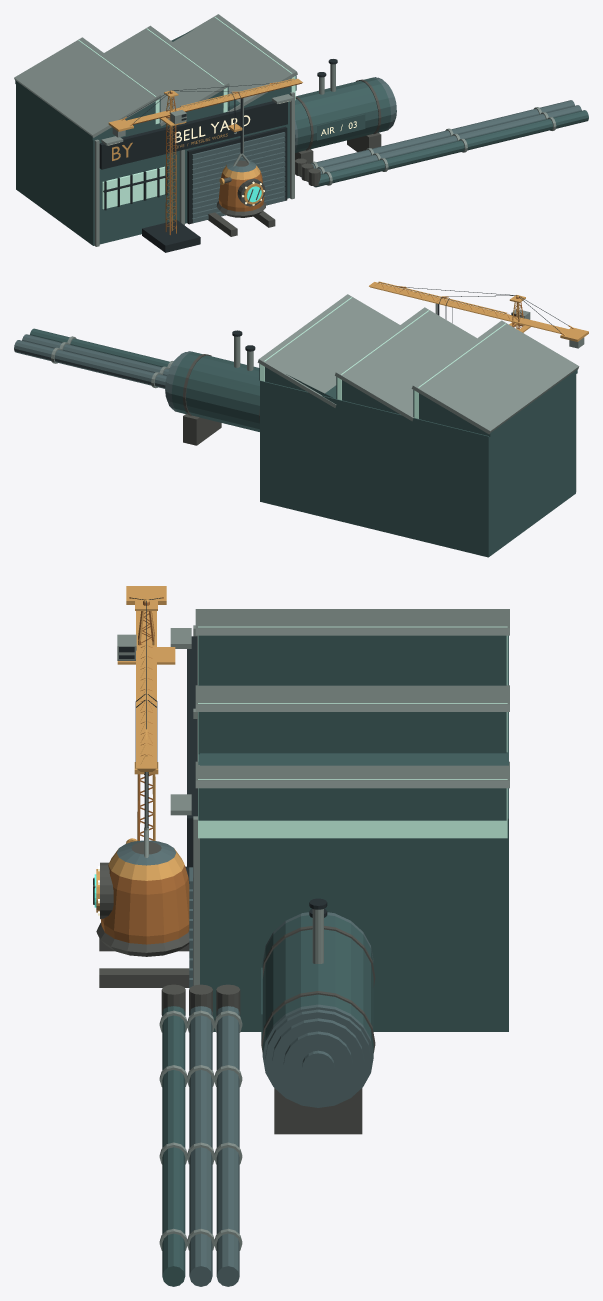
The model's file is bell_yard.glb.
3 views of the same model, one above another, from view 1: azimuth 30°, elevation 25°; view 2: azimuth 150°, elevation 25°; view 3: azimuth 270°, elevation 25° (orthographic). The views are drawn at different scales.
Visible parts, largest first — view 1: BellYard.002; view 2: BellYard.002; view 3: BellYard.002.
Part boxes in pixels (bbox=[...]): BellYard.002: bbox=[14, 14, 588, 252]; BellYard.002: bbox=[14, 281, 588, 557]; BellYard.002: bbox=[93, 586, 509, 1286].
Size of the model in its own units: 21.53 by 6.3 by 7.96.
